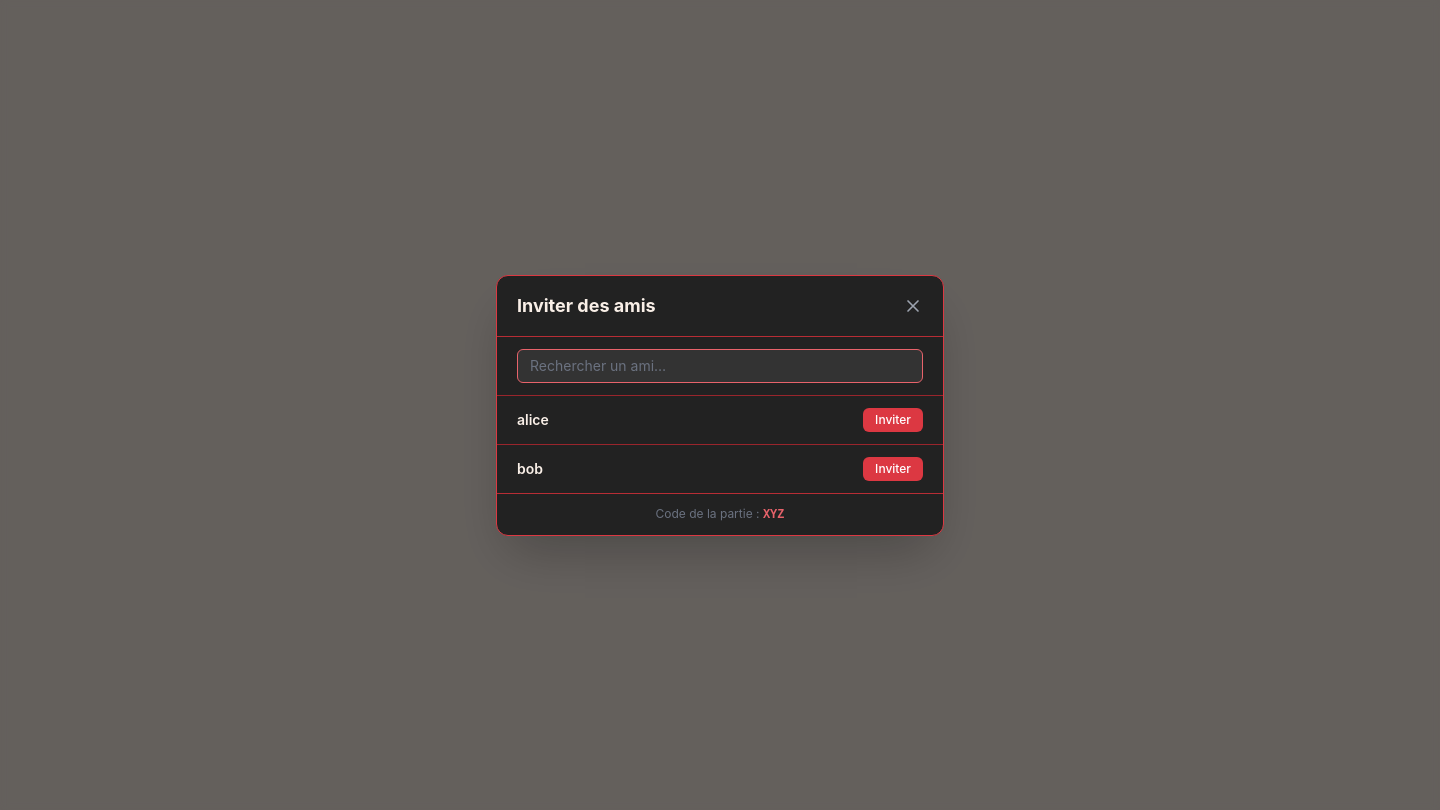
Scenario: InviteFriendsModal › filtre les amis par recherche
Expected: the text "alice" is shown, [517, 410, 549, 430]
Type "ali" into the field with placeholder "Rechercher un ami…" at (720, 366), box [517, 348, 923, 382]
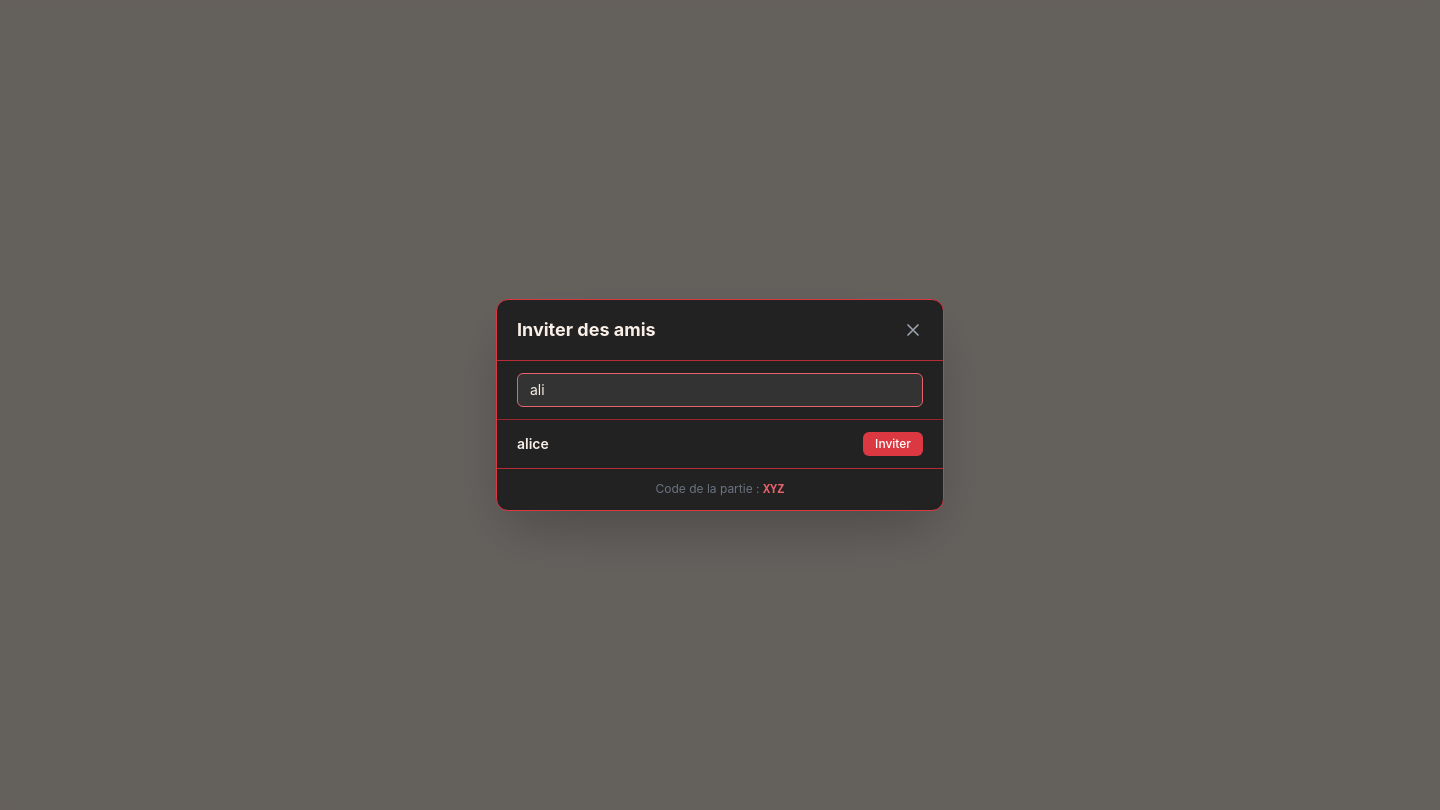
Expected: the text "alice" is shown, [517, 434, 549, 454]
Expected: the text "bob" is gone
